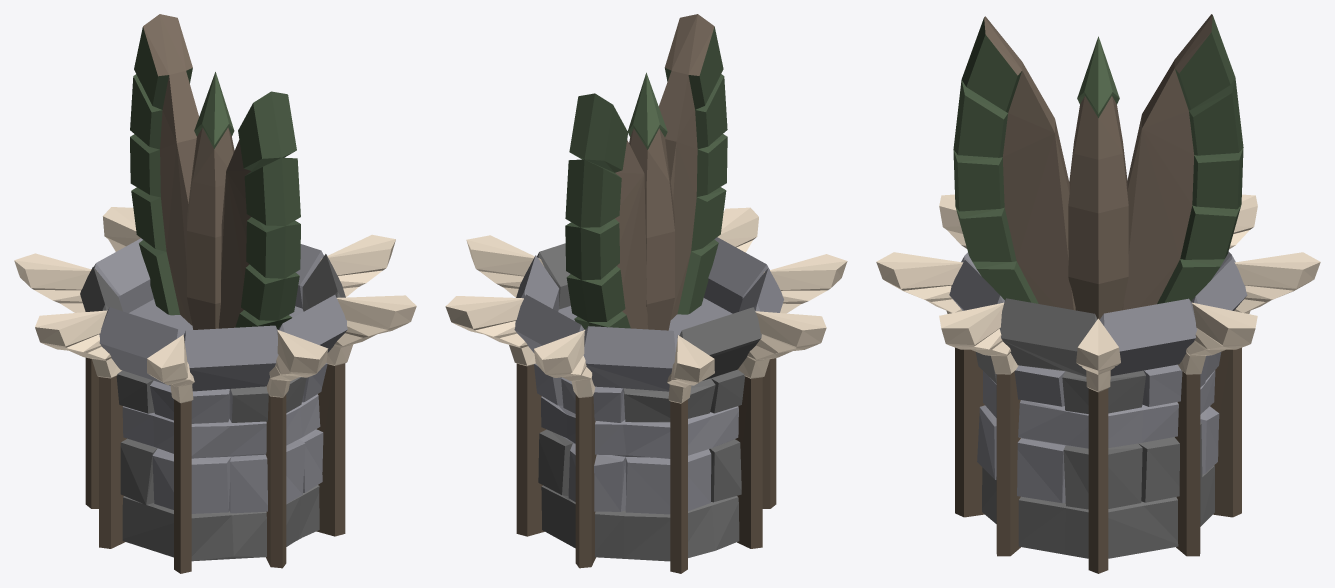
The model's file is _PROPS_UP_01.fbx.
3 renders of one model, left to right at view 1: azimuth 30°, elevation 25°; view 2: azimuth 150°, elevation 25°; view 3: azimuth 270°, elevation 25°, orthographic. The views are drawn at different scales.
Visible parts, largest first — view 1: PROPS_UP_01; view 2: PROPS_UP_01; view 3: PROPS_UP_01.
Part boxes in pixels (box(x1,y1,x2,y2)): PROPS_UP_01: box(14, 14, 416, 573); PROPS_UP_01: box(445, 14, 847, 573); PROPS_UP_01: box(876, 14, 1320, 573).
Size of the model in its own units: 471 by 581 by 471.
